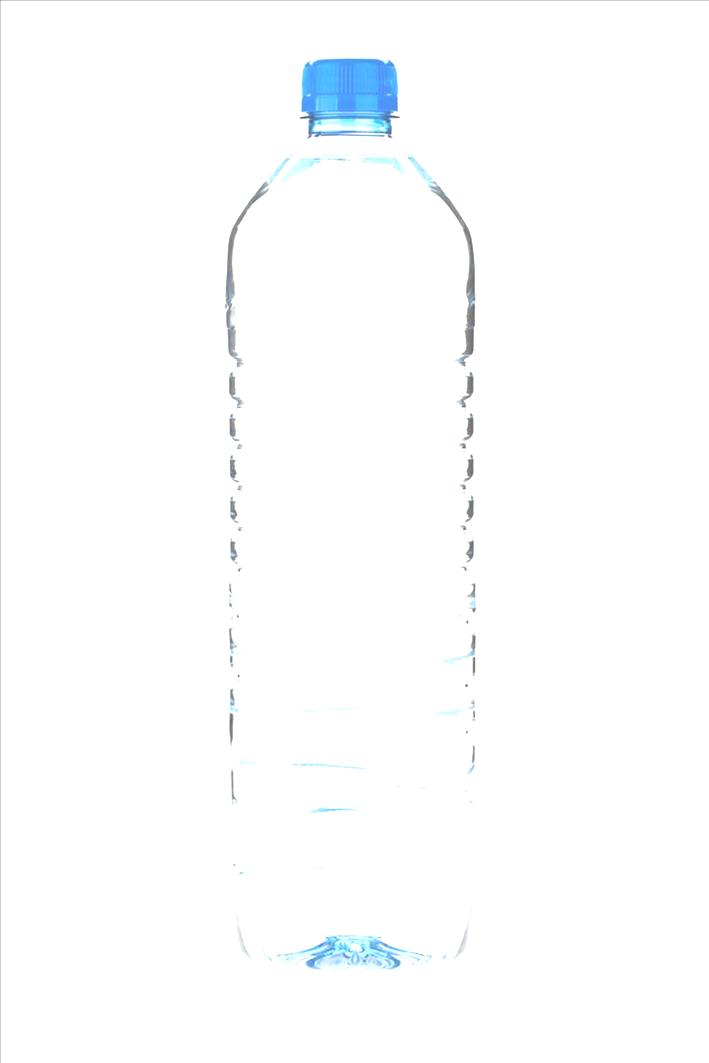bottle: (217, 42, 481, 1008)
